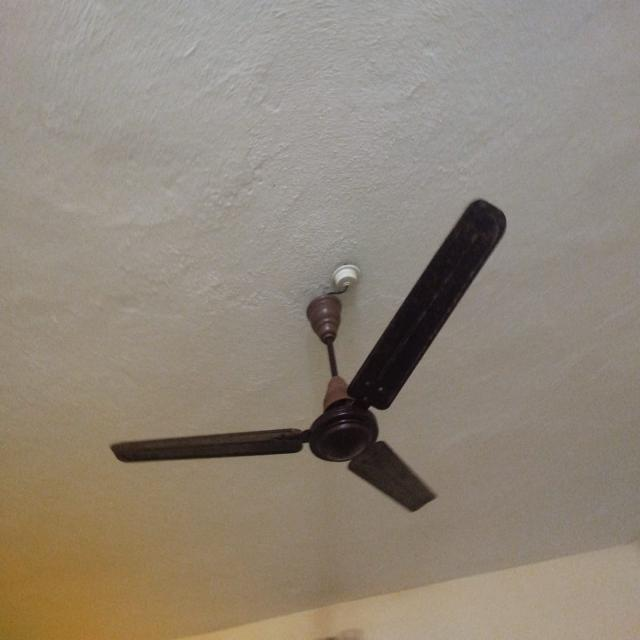fan_off: (108, 201, 508, 514)
